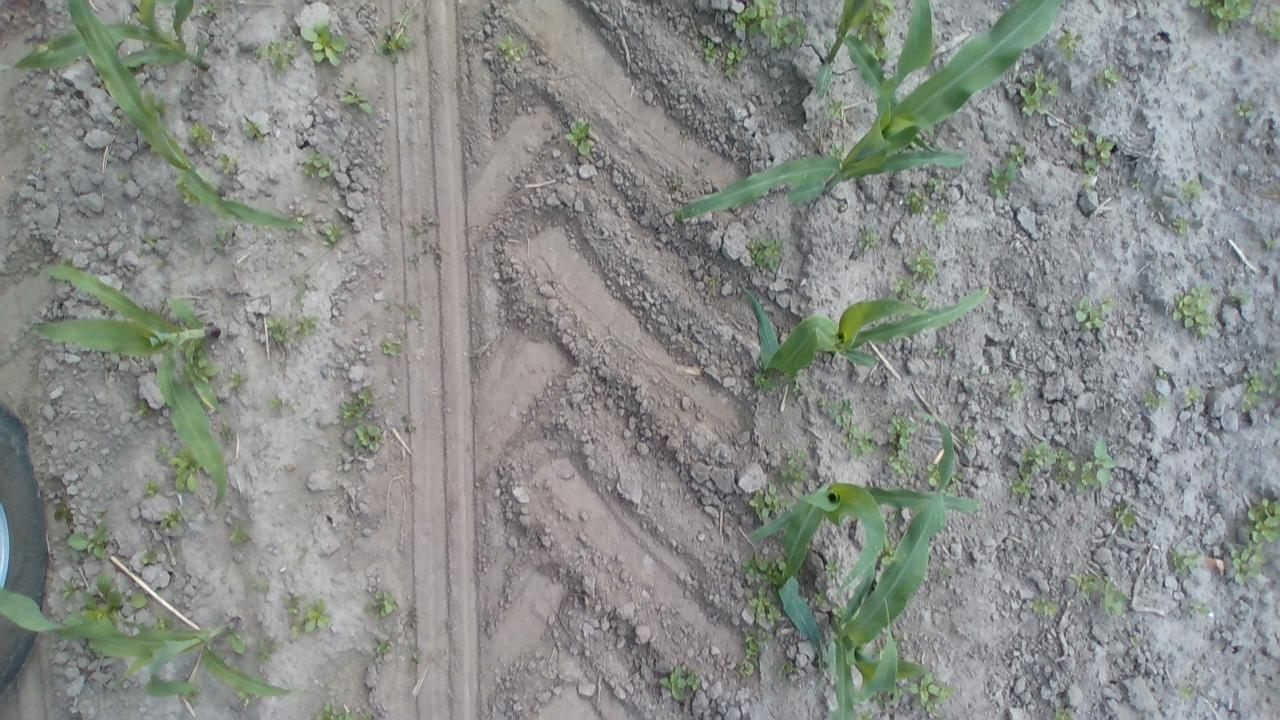Maize: (673, 0, 1067, 217), (64, 0, 301, 231), (747, 480, 979, 698), (29, 266, 229, 510), (824, 409, 954, 720), (0, 583, 302, 703), (740, 278, 990, 378), (816, 0, 944, 156), (0, 0, 211, 74)
Weeds: (1231, 496, 1280, 584), (732, 0, 808, 50), (855, 0, 896, 64), (1186, 0, 1254, 37), (80, 572, 122, 630), (1172, 284, 1215, 339), (882, 414, 920, 474), (299, 22, 350, 66), (1075, 439, 1116, 493), (909, 671, 956, 718), (988, 144, 1026, 197), (1019, 66, 1060, 115), (180, 336, 218, 384), (1070, 292, 1118, 330), (736, 628, 773, 677), (658, 664, 702, 702), (66, 522, 109, 560), (168, 444, 200, 492), (251, 40, 299, 72), (374, 29, 414, 65), (742, 554, 786, 586), (747, 586, 782, 626), (1018, 442, 1056, 478), (746, 237, 784, 273), (748, 484, 789, 516), (340, 388, 374, 426), (904, 246, 936, 286), (1098, 574, 1128, 616), (892, 276, 929, 310), (843, 422, 876, 459), (820, 395, 854, 428), (781, 448, 809, 487), (1240, 369, 1264, 414), (338, 85, 373, 115), (366, 590, 398, 620), (1088, 134, 1116, 168), (1074, 157, 1099, 195), (754, 359, 780, 395), (566, 121, 594, 154), (1255, 6, 1280, 42), (173, 172, 200, 205), (303, 150, 333, 179), (724, 39, 748, 75), (1068, 570, 1098, 598), (314, 700, 356, 720), (304, 600, 330, 632), (1170, 546, 1198, 573), (500, 34, 528, 61), (354, 423, 380, 452), (1057, 28, 1081, 59), (1055, 449, 1076, 484), (266, 315, 291, 342), (1096, 64, 1122, 89), (1028, 596, 1060, 616), (879, 533, 899, 565), (1114, 503, 1136, 532), (904, 190, 928, 216), (242, 119, 268, 143), (699, 36, 720, 64), (857, 224, 878, 252), (1180, 178, 1204, 202), (321, 222, 345, 246), (942, 471, 963, 498), (930, 204, 950, 232), (256, 636, 276, 662), (1008, 478, 1032, 499), (1267, 359, 1280, 396), (294, 316, 318, 336), (1184, 382, 1204, 406), (188, 124, 212, 144), (1068, 123, 1088, 146), (1142, 390, 1166, 409), (785, 370, 801, 398), (924, 462, 941, 488), (1009, 377, 1026, 402), (160, 509, 182, 528), (152, 614, 174, 632), (216, 152, 234, 174), (210, 226, 226, 250), (129, 592, 150, 610), (960, 426, 979, 445), (778, 660, 798, 678), (142, 477, 160, 497), (406, 221, 424, 241), (1174, 216, 1192, 236), (190, 387, 206, 409), (380, 339, 402, 355), (825, 557, 840, 580), (230, 525, 248, 544), (886, 505, 904, 524), (218, 420, 234, 441), (1227, 291, 1251, 305), (1235, 99, 1252, 118), (1178, 679, 1193, 700), (393, 12, 415, 26), (135, 399, 151, 418), (228, 371, 244, 390), (828, 99, 844, 118), (1051, 706, 1072, 720), (668, 172, 684, 190), (199, 3, 221, 16), (828, 143, 848, 157), (141, 547, 157, 564), (294, 286, 306, 308), (926, 175, 942, 191), (1190, 602, 1208, 616), (60, 581, 74, 599), (154, 442, 172, 456), (892, 633, 905, 652), (374, 639, 390, 654), (284, 601, 300, 616), (813, 591, 830, 605), (235, 688, 252, 702), (290, 621, 302, 640), (931, 346, 950, 358), (154, 96, 166, 115), (294, 209, 309, 224), (830, 604, 846, 618), (26, 41, 46, 52), (143, 233, 157, 248), (870, 645, 884, 660), (180, 691, 199, 702), (938, 565, 954, 578), (909, 132, 922, 148), (266, 398, 282, 410), (252, 580, 268, 592), (855, 710, 873, 720), (1130, 178, 1144, 190), (37, 140, 49, 154), (58, 257, 74, 267), (834, 14, 844, 29), (678, 129, 688, 144), (1130, 634, 1142, 646), (408, 308, 422, 318), (116, 171, 130, 181), (1158, 370, 1170, 380), (824, 40, 833, 53), (708, 276, 718, 287), (132, 10, 141, 22), (896, 686, 905, 698), (876, 698, 886, 708), (1265, 239, 1275, 248), (412, 652, 421, 662), (358, 715, 372, 720), (34, 68, 41, 72)
